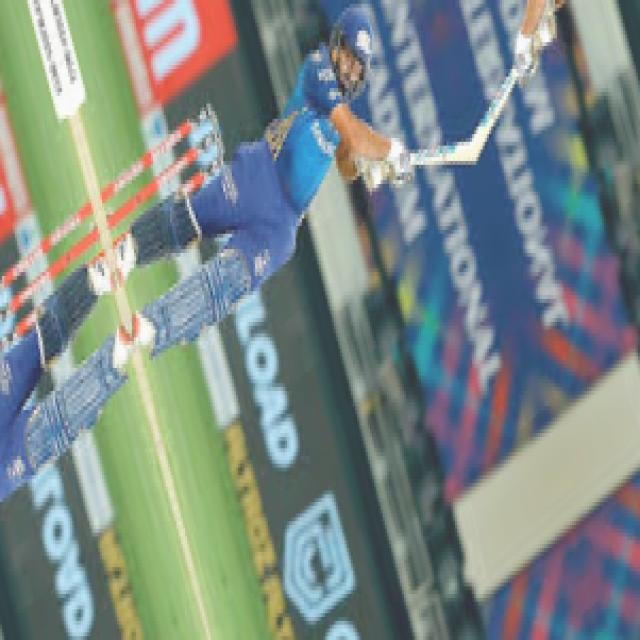toe: (456, 139, 476, 172)
